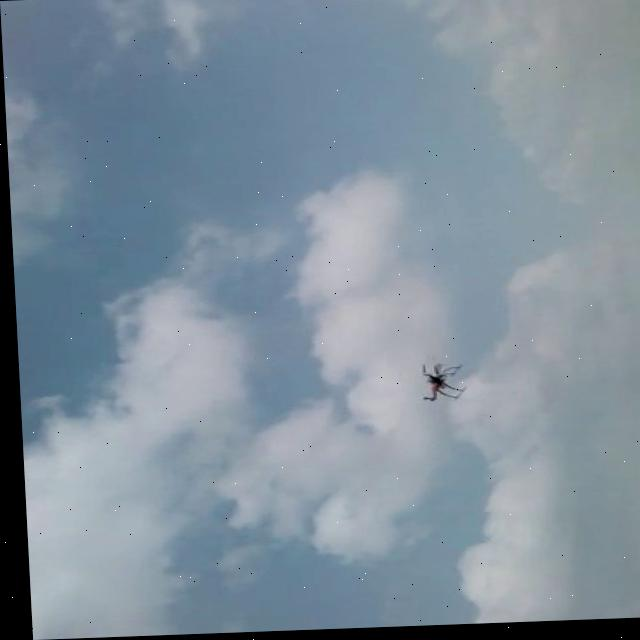drone: (410, 362, 462, 408)
